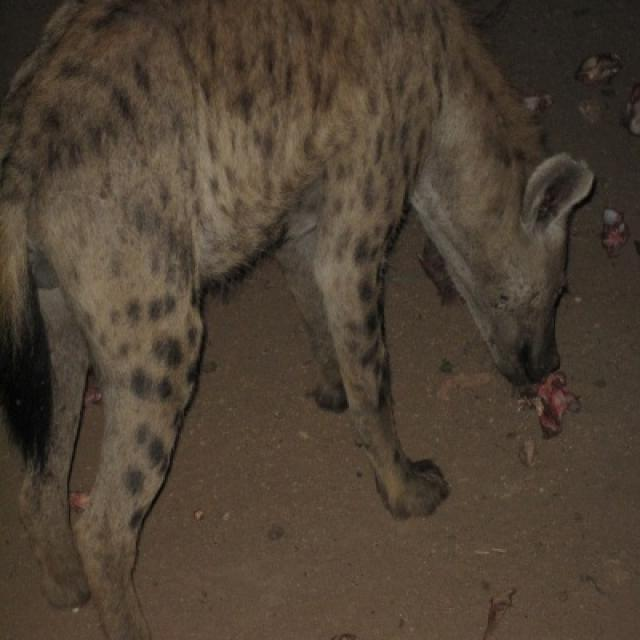hyena: (0, 0, 598, 638)
